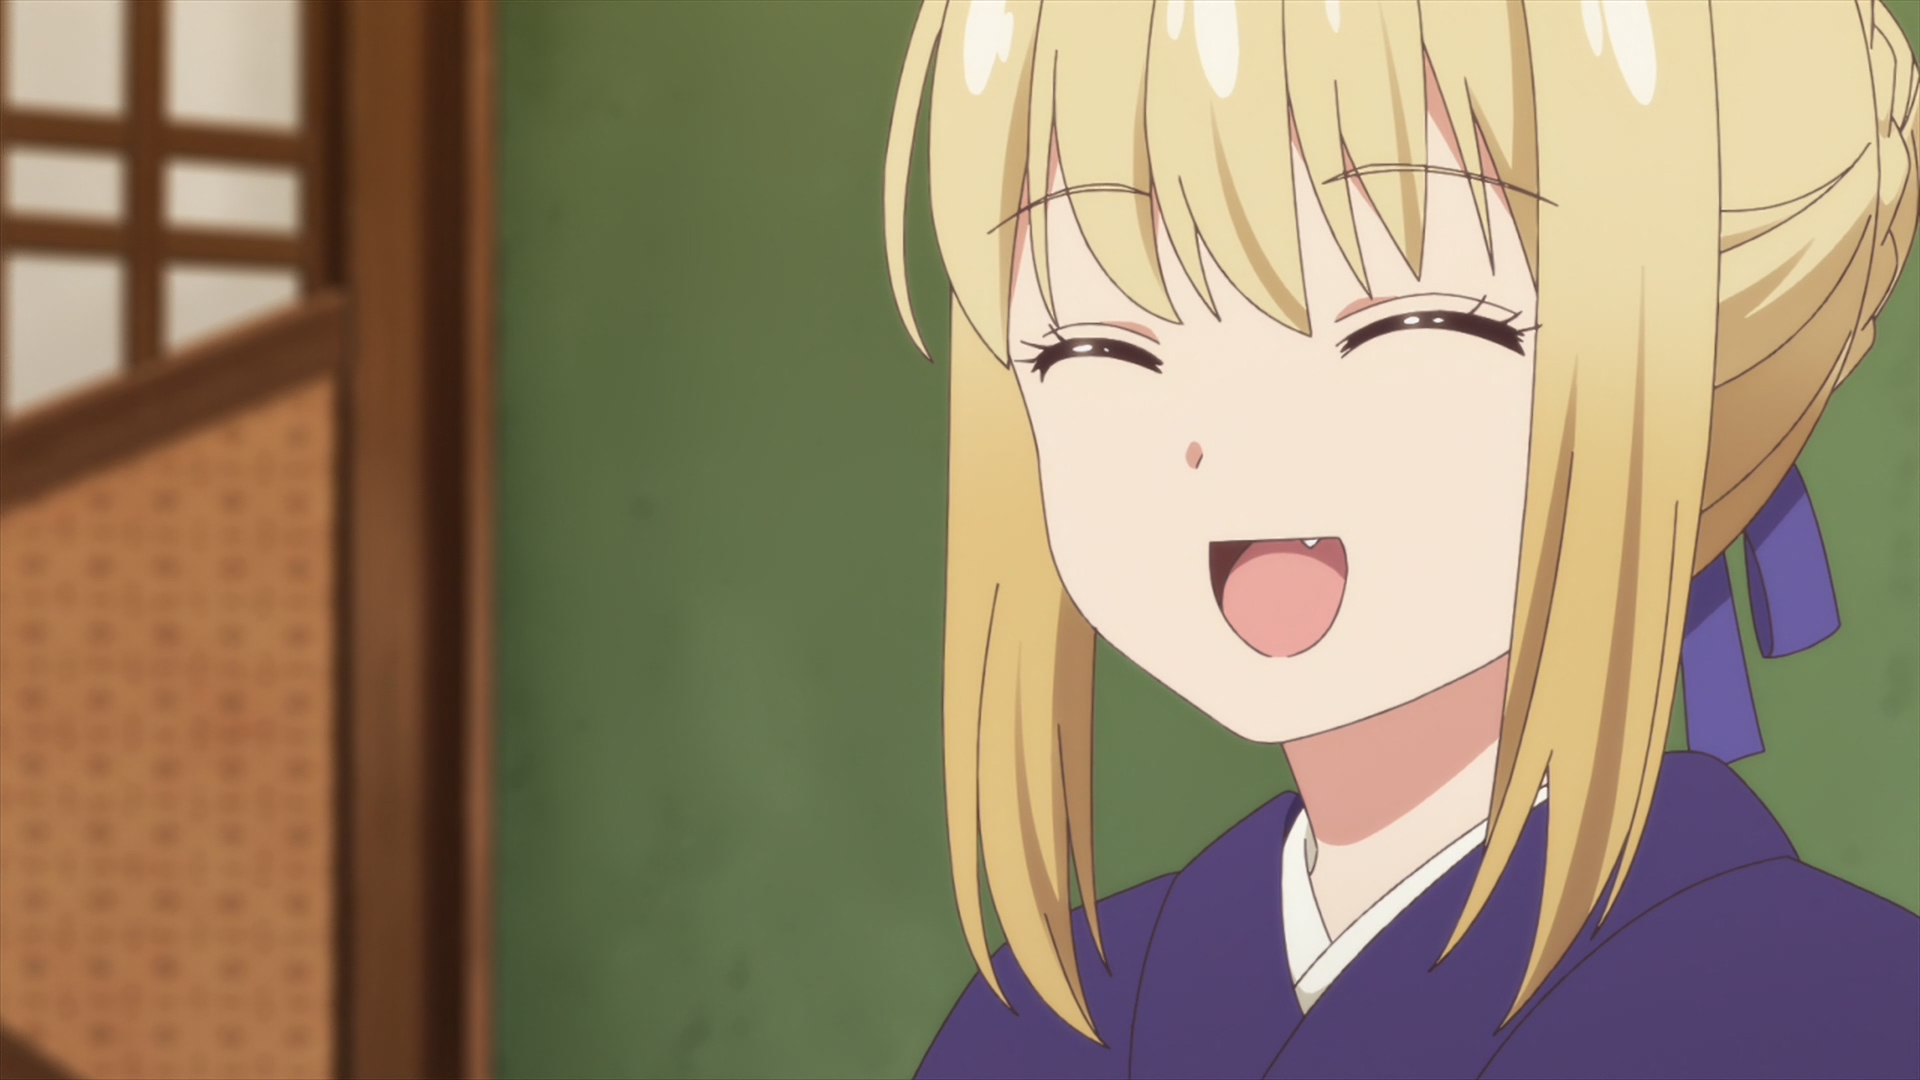桐: (882, 1, 1920, 1080)
